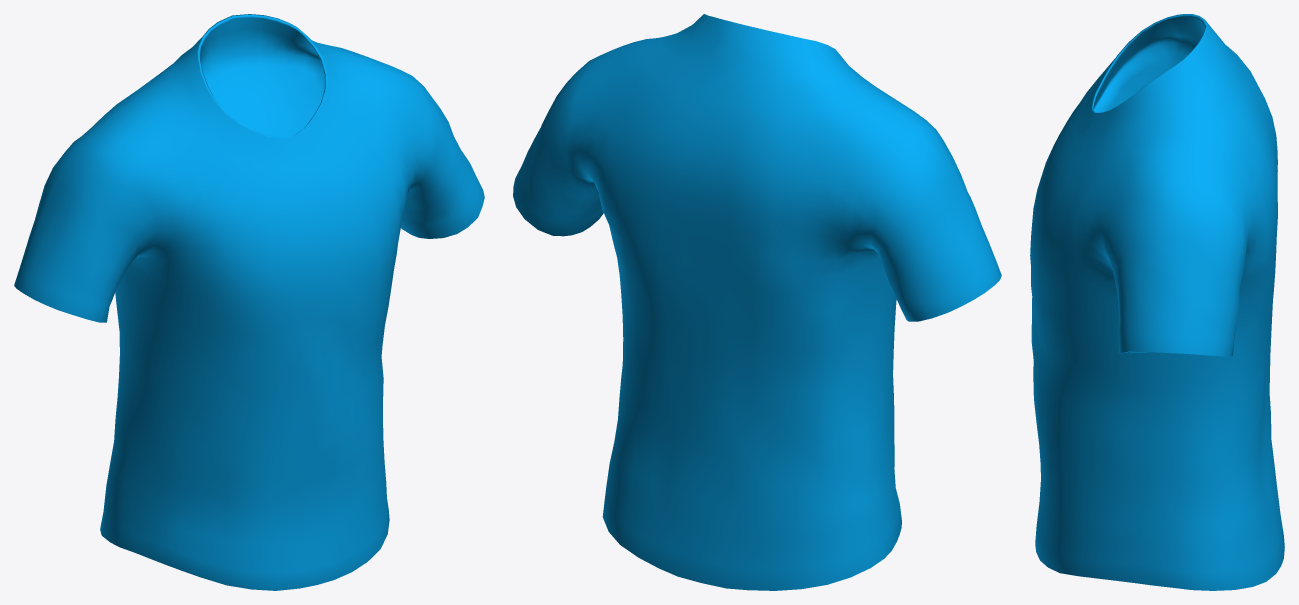
The model's file is shirt_0.glb.
3 renders of one model, left to right at view 1: azimuth 30°, elevation 25°; view 2: azimuth 150°, elevation 25°; view 3: azimuth 270°, elevation 25°, orthographic. The views are drawn at different scales.
Visible parts, largest first — view 1: node_id107; view 2: node_id107; view 3: node_id107.
Part boxes in pixels (x1=…): node_id107: x1=14, y1=14, x2=484, y2=590; node_id107: x1=513, y1=14, x2=1001, y2=590; node_id107: x1=1030, y1=14, x2=1284, y2=590.
Bounding box in the file's own units: 0.4767 × 0.512 × 0.2267.
1 material, 1 textured.
